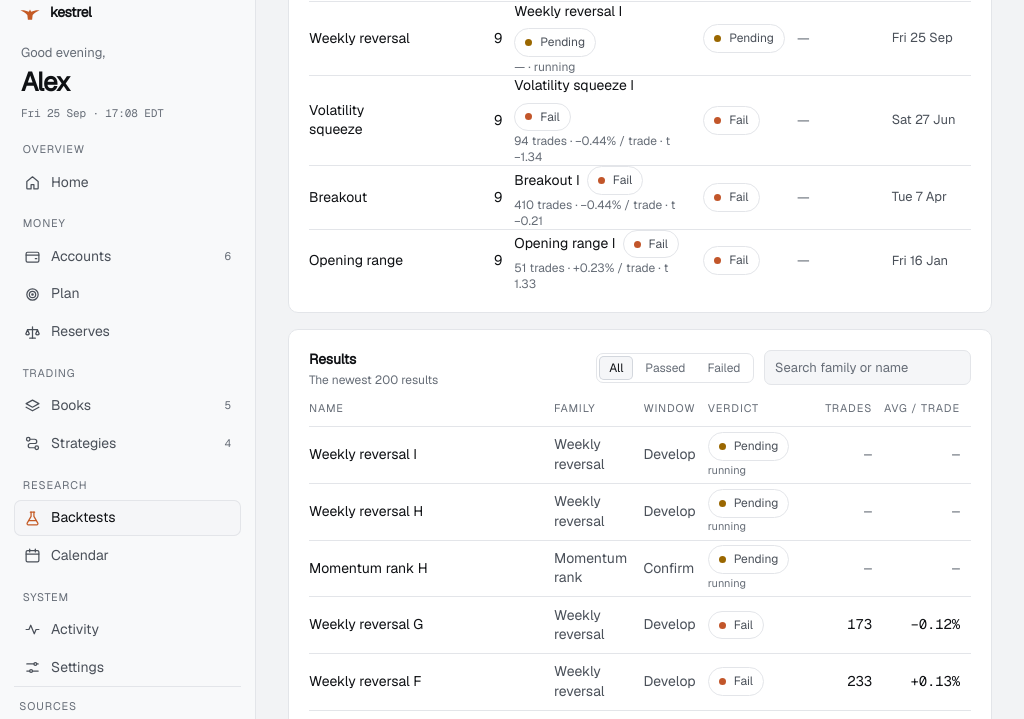
Test: Backtests › shows why a refused or pending result is that way, beside its verdict
(page scrolled)
Type "overnight hold" into the search field labelled "Search family or name".
click(868, 368); type("overnight hold")  # box [764,350,971,385]
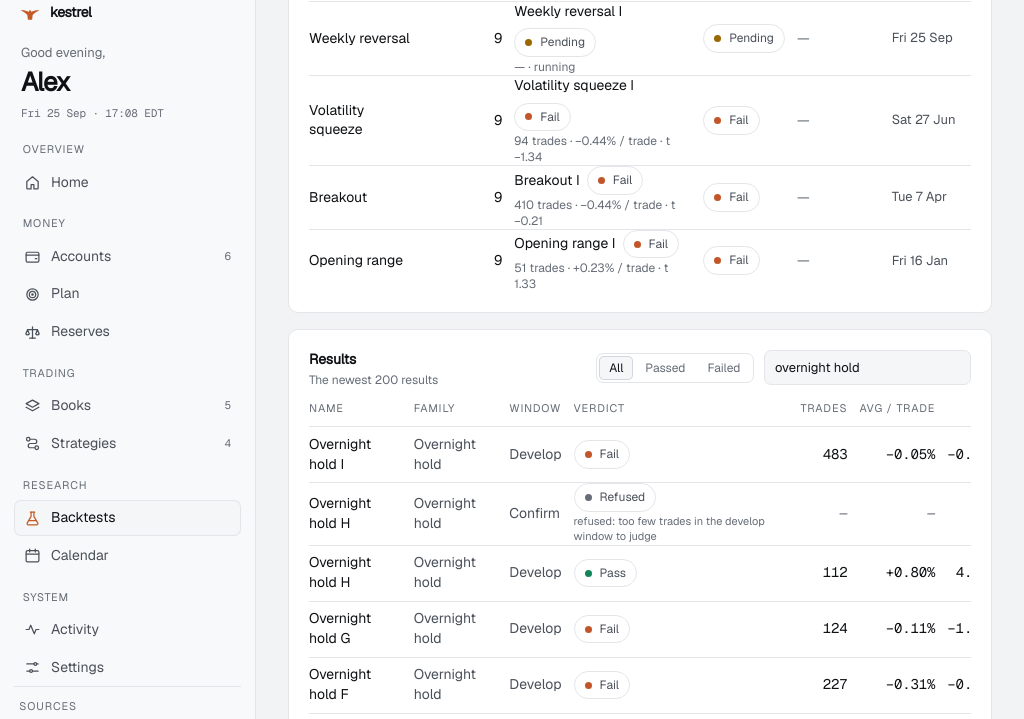
Expected: the row that starts with "Weekly reversal" shows "running", [534,59,575,75]
Result: the element that starts with "Results" shows "refused: too few trades in the develop window to judge" at [574,514,765,543]
